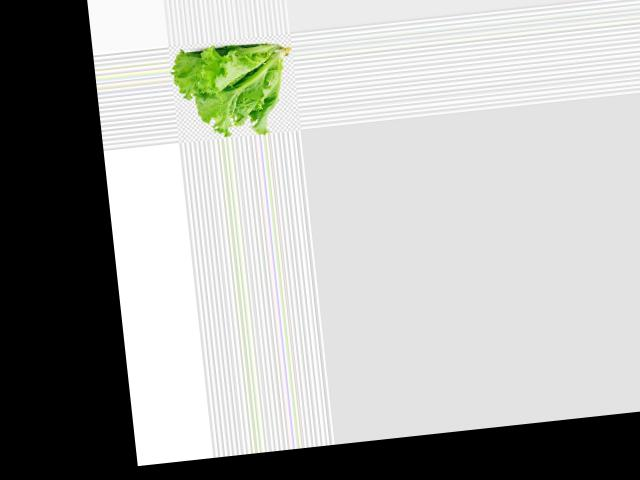lettuce: (170, 40, 300, 142)
